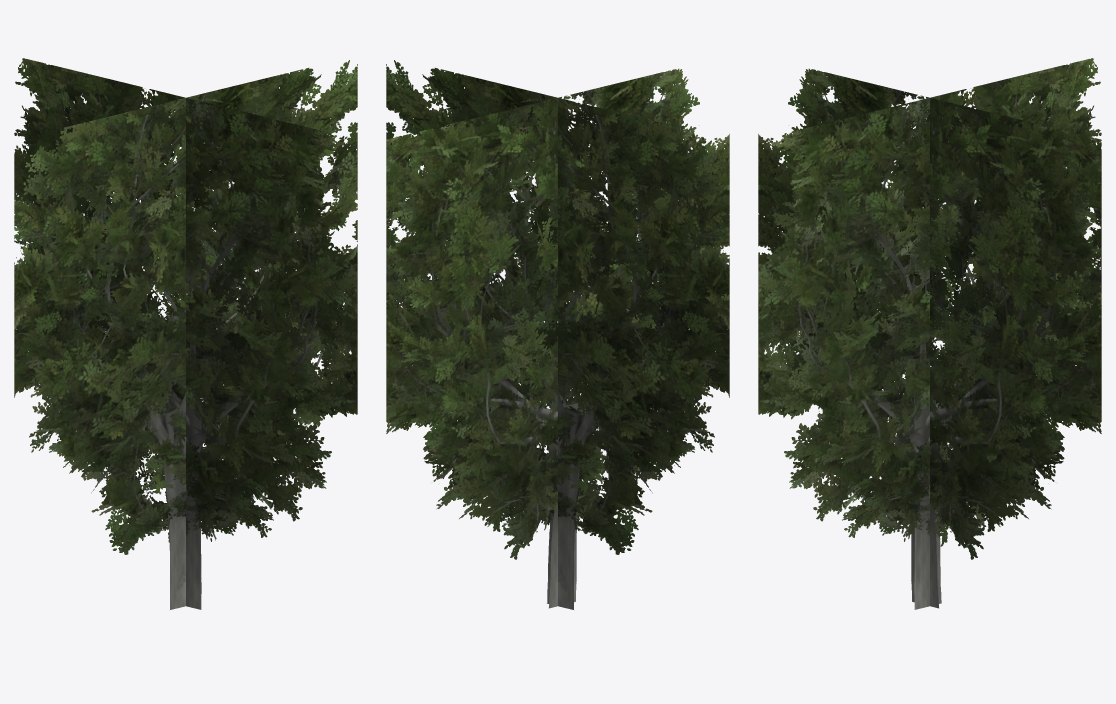
File: buk_stary_daleko.glb
3 renders of one model, left to right at view 1: azimuth 30°, elevation 25°; view 2: azimuth 150°, elevation 25°; view 3: azimuth 270°, elevation 25°, orthographic.
Parts seen in each view (by area): view 1: buk_stary_daleko; view 2: buk_stary_daleko; view 3: buk_stary_daleko.
Part boxes in pixels (left/top/right/bottom): buk_stary_daleko: left=14, top=58, right=357, bottom=609; buk_stary_daleko: left=386, top=60, right=729, bottom=609; buk_stary_daleko: left=758, top=58, right=1101, bottom=609.
Bounding box in the file's own units: 17.09 × 24.2 × 14.8.
3 materials, 3 textured.
